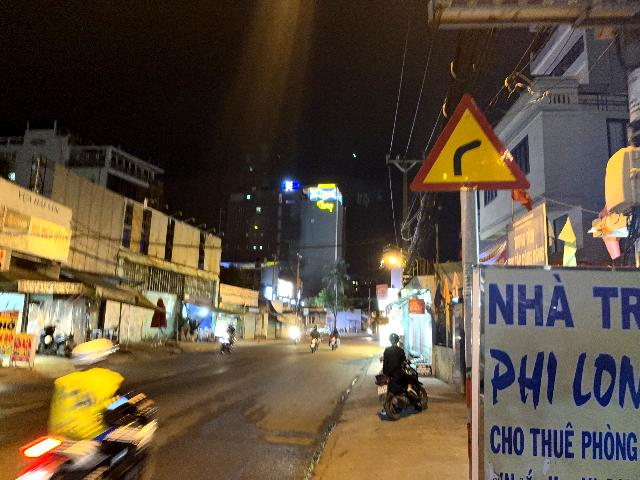cho-ngoat-nguy-hiem-ben-phai: (410, 95, 530, 191)
